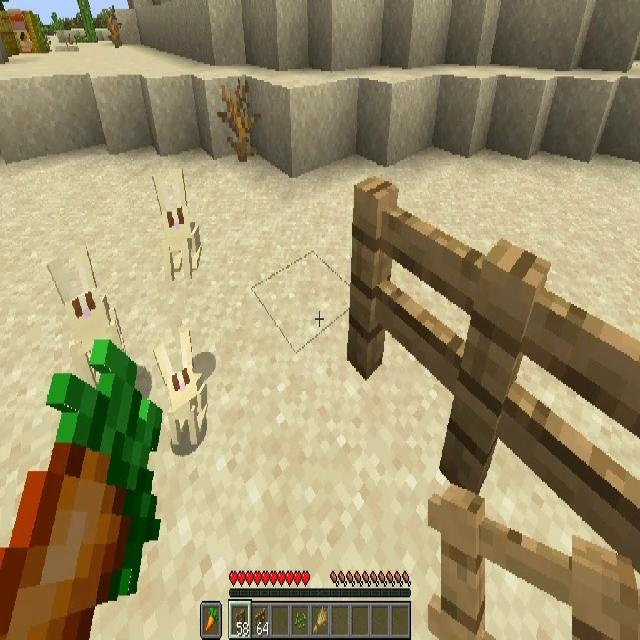rabbit: (47, 247, 126, 387), (152, 330, 210, 444), (151, 168, 203, 284)
